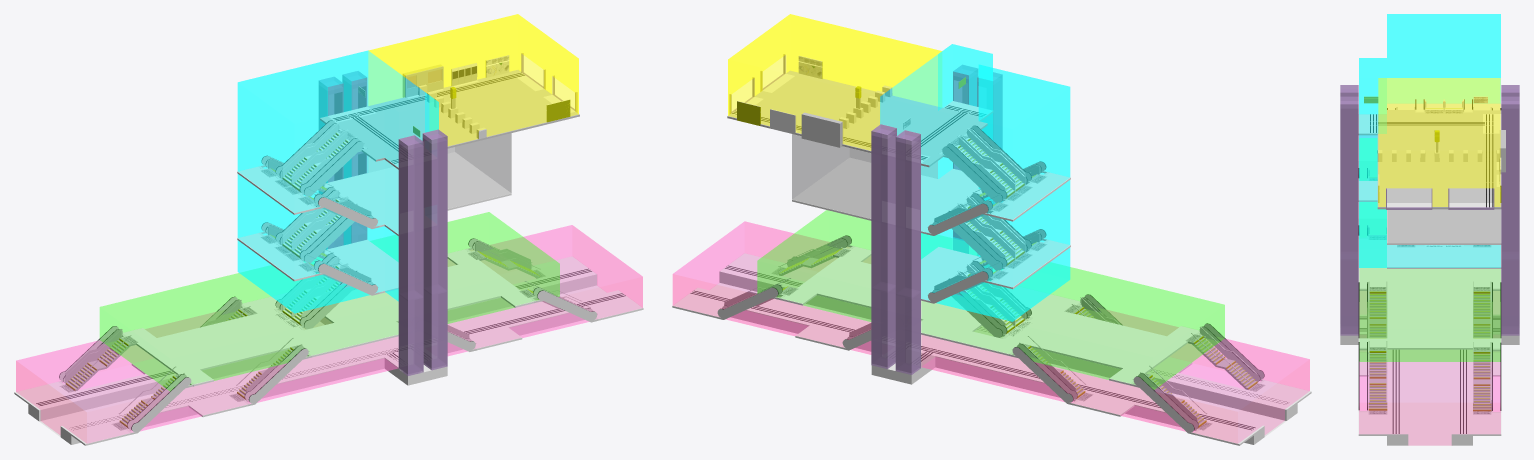
File: Mezzanine.fbx
3 views of the same model, side by side, from view 1: azimuth 30°, elevation 25°; view 2: azimuth 150°, elevation 25°; view 3: azimuth 270°, elevation 25° (orthographic).
Parts seen in each view (by area): view 1: Plane.027, Espace vertical, Espace mezzanine.001, Espace mezzanine, Espace entrée, entrée gare, ascenseur.003, ascenseur.002, EspaceSalle d'échange, bandes podotactile, ascenseur.001, Plane.020 (+3 smaller); view 2: Plane.027, Espace vertical, Espace mezzanine.001, Espace mezzanine, Espace entrée, entrée gare, ascenseur, ascenseur.001, EspaceSalle d'échange, bandes podotactile, Plane.020, ascenseur.002 (+3 smaller); view 3: Plane.027, Espace vertical, Espace mezzanine.001, Espace entrée, Espace mezzanine, entrée gare, ascenseur.002, ascenseur.001, EspaceSalle d'échange, bandes podotactile, Plane.020, ligne controle (+13 smaller).
Boxes of the visible parts, bbox=[...] form: Plane.027: bbox=[14, 120, 643, 445]; Espace vertical: bbox=[237, 50, 438, 313]; Espace mezzanine.001: bbox=[16, 225, 642, 443]; Espace mezzanine: bbox=[100, 212, 559, 391]; Espace entrée: bbox=[368, 14, 578, 146]; entrée gare: bbox=[320, 55, 579, 169]; ascenseur.003: bbox=[398, 135, 423, 375]; ascenseur.002: bbox=[422, 129, 447, 370]; EspaceSalle d'échange: bbox=[368, 133, 511, 208]; bandes podotactile: bbox=[36, 72, 625, 430]; ascenseur.001: bbox=[342, 71, 367, 244]; Plane.020: bbox=[237, 166, 314, 214]; Plane.027: bbox=[672, 125, 1311, 445]; Espace vertical: bbox=[880, 44, 1070, 321]; Espace mezzanine.001: bbox=[672, 221, 1309, 443]; Espace mezzanine: bbox=[757, 210, 1224, 389]; Espace entrée: bbox=[728, 14, 941, 150]; entrée gare: bbox=[727, 55, 992, 167]; ascenseur: bbox=[895, 130, 920, 374]; ascenseur.001: bbox=[871, 124, 896, 368]; EspaceSalle d'échange: bbox=[792, 134, 937, 218]; bandes podotactile: bbox=[690, 105, 1287, 430]; Plane.020: bbox=[992, 172, 1070, 221]; ascenseur.002: bbox=[953, 65, 977, 253]; Plane.027: bbox=[1340, 99, 1519, 445]; Espace vertical: bbox=[1359, 14, 1500, 267]; Espace mezzanine.001: bbox=[1359, 136, 1500, 445]; Espace entrée: bbox=[1378, 78, 1500, 206]; Espace mezzanine: bbox=[1359, 268, 1500, 361]; entrée gare: bbox=[1358, 96, 1505, 209]; ascenseur.002: bbox=[1340, 96, 1358, 335]; ascenseur.001: bbox=[1501, 96, 1519, 335]; EspaceSalle d'échange: bbox=[1387, 209, 1500, 242]; bandes podotactile: bbox=[1360, 114, 1499, 433]; Plane.020: bbox=[1387, 103, 1501, 111]; ligne controle: bbox=[1377, 130, 1499, 161].
Bounding box in the file's own units: 14060 × 6435 × 3899.
